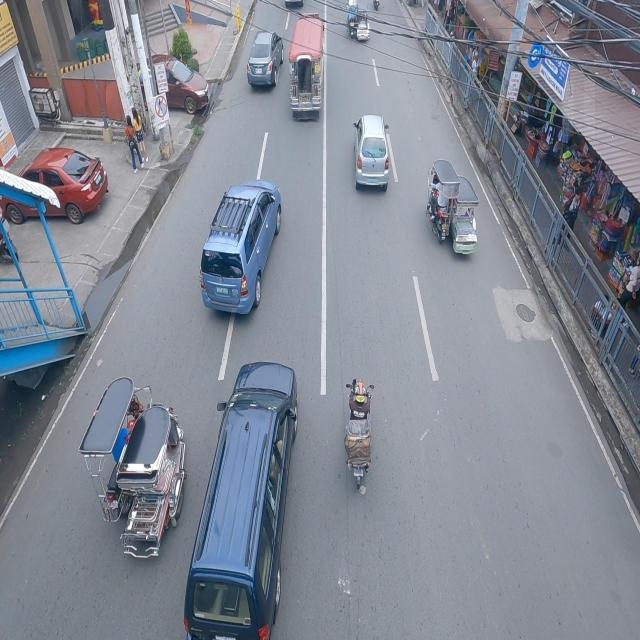Motorcycle: (342, 370, 374, 494)
Van: (182, 354, 302, 640), (196, 173, 288, 329)
